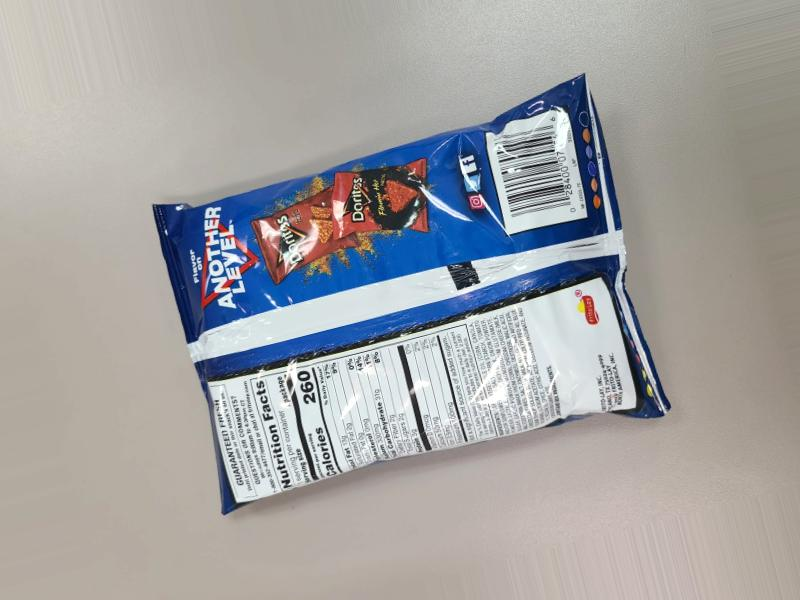doritos: (219, 113, 664, 512)
